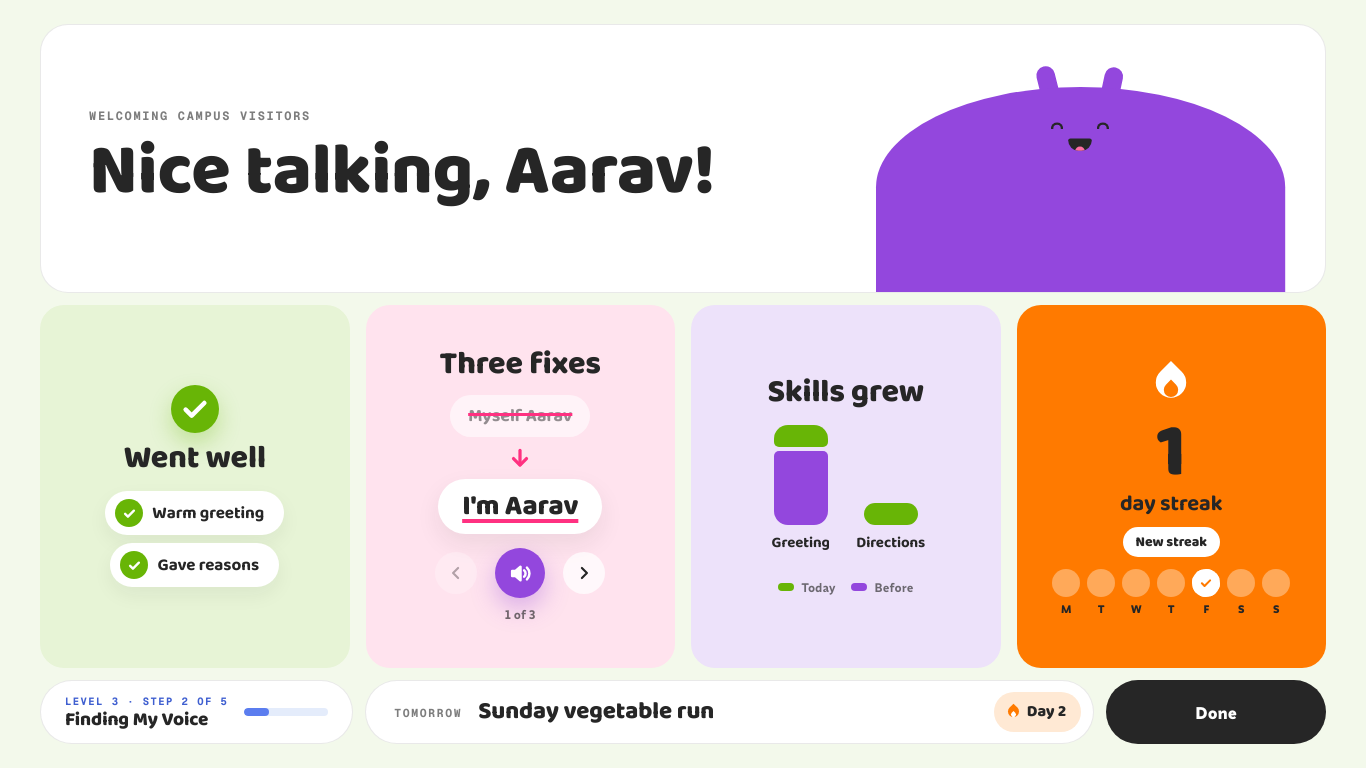
Test: the recap › turns over up to three fixes, the best first, and says the one shown
The width and height of the screenshot is (1366, 768).
Expected: the element "Three fixes" shows "1 of 3", left=366, top=305, right=675, bottom=668
Expected: the button named "Previous fix" is disabled, left=435, top=552, right=477, bottom=594
What coordinates should you click on to do the following:
click the button named "Next fix"
I would click on:
 (584, 573)
Its box is left=563, top=552, right=605, bottom=594.
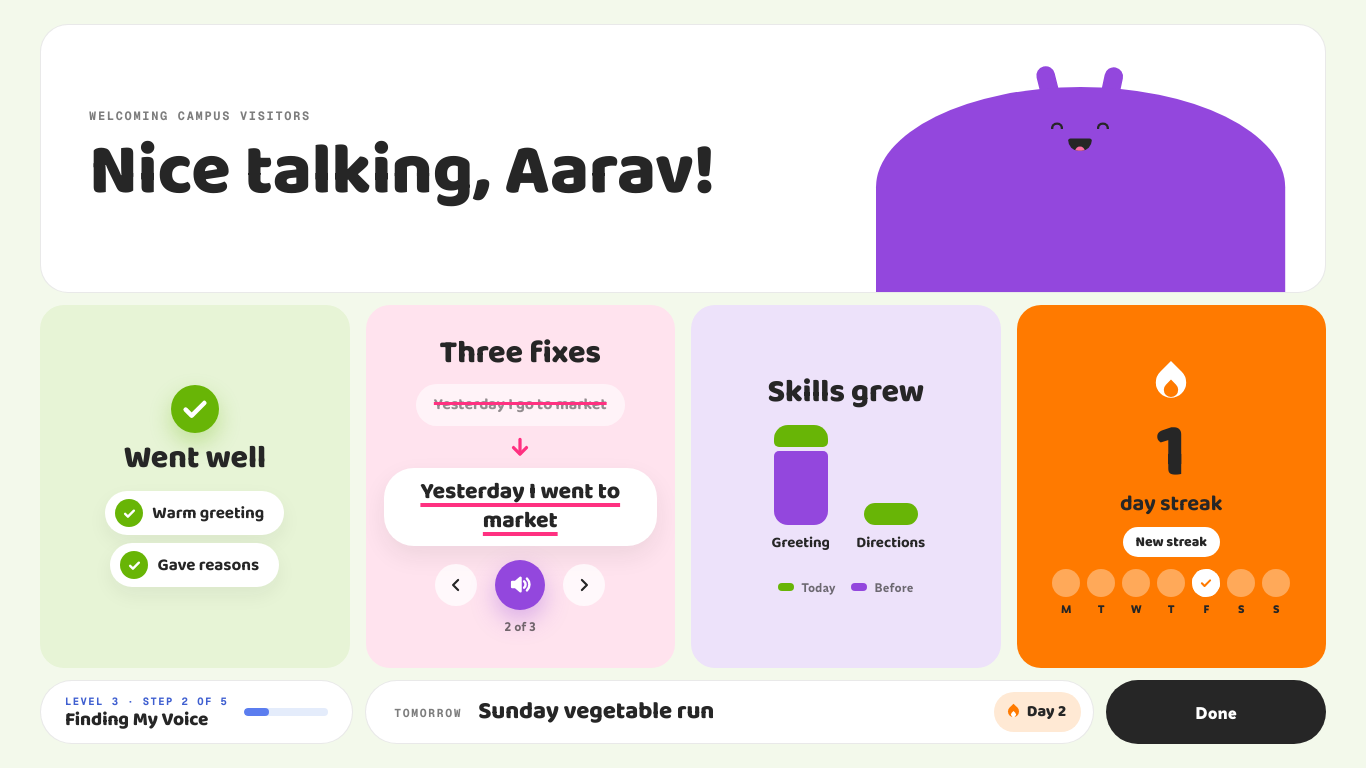
Expected: the element "Three fixes" shows "2 of 3", left=366, top=305, right=675, bottom=668
What coordinates should you click on to do the following:
click the button named "Hear it"
I would click on:
 (520, 585)
Its box is left=495, top=560, right=545, bottom=610.
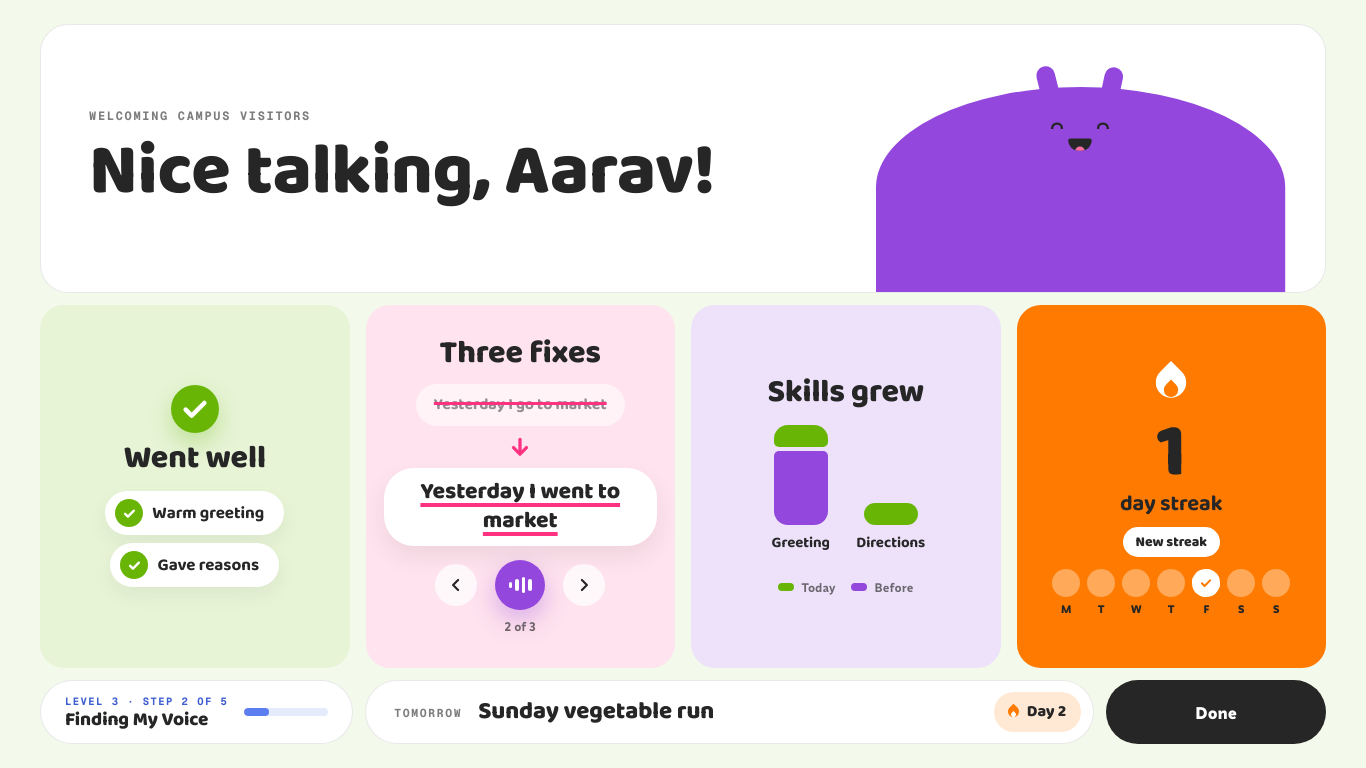
What coordinates should you click on to do the following:
click the button named "Next fix"
I would click on:
 (584, 585)
Its box is left=563, top=564, right=605, bottom=606.
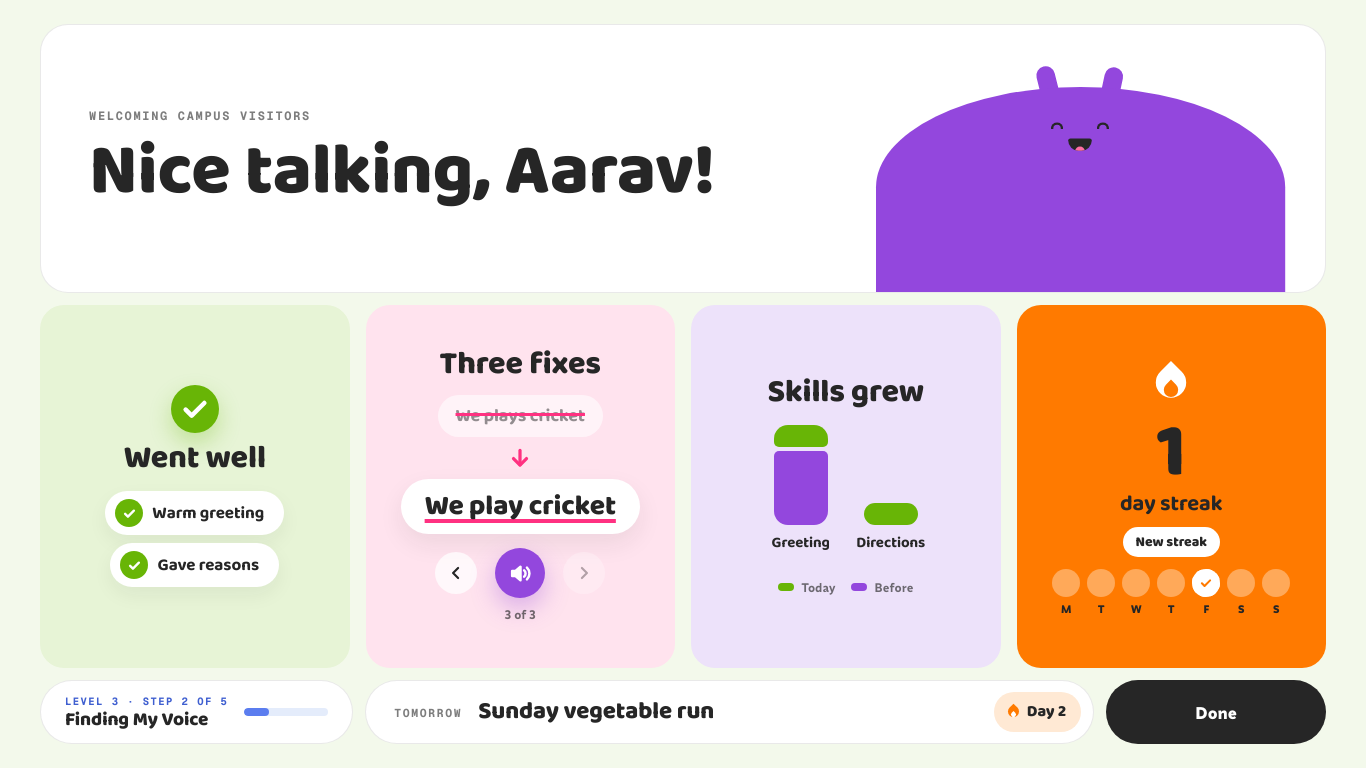
Expected: the button named "Next fix" is disabled, left=563, top=552, right=605, bottom=594
What coordinates should you click on to do the following:
click the button named "Previous fix"
I would click on:
 (456, 573)
Its box is left=435, top=552, right=477, bottom=594.
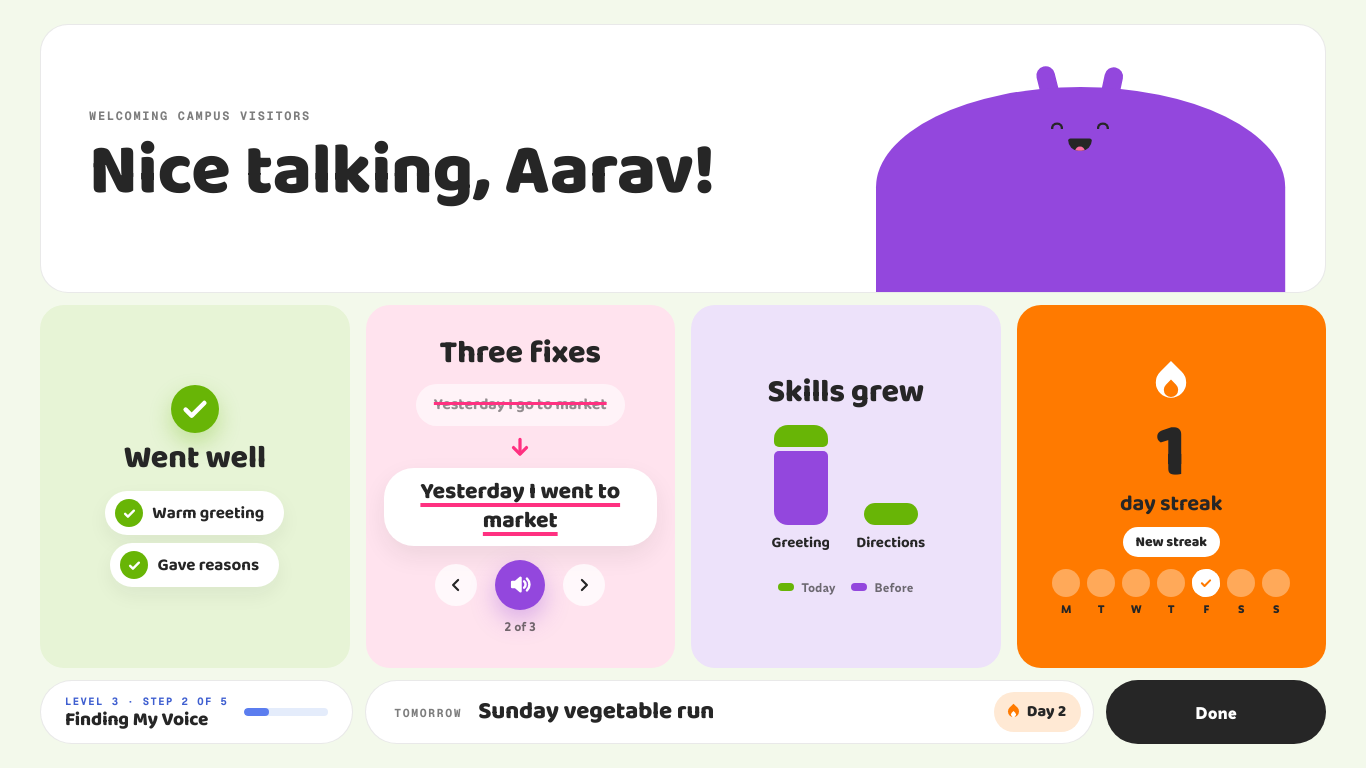
Expected: the element "Three fixes" shows "2 of 3", left=366, top=305, right=675, bottom=668
